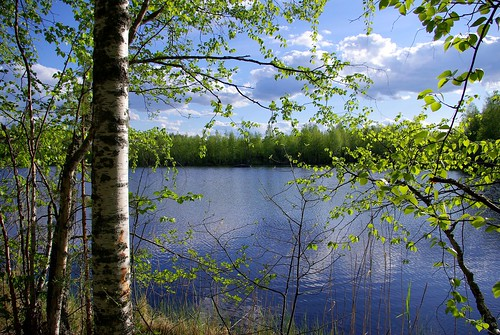river: (5, 168, 499, 325)
sky: (150, 1, 491, 123)
tree: (340, 127, 500, 335)
vegetation: (1, 1, 176, 328), (121, 124, 490, 167)
